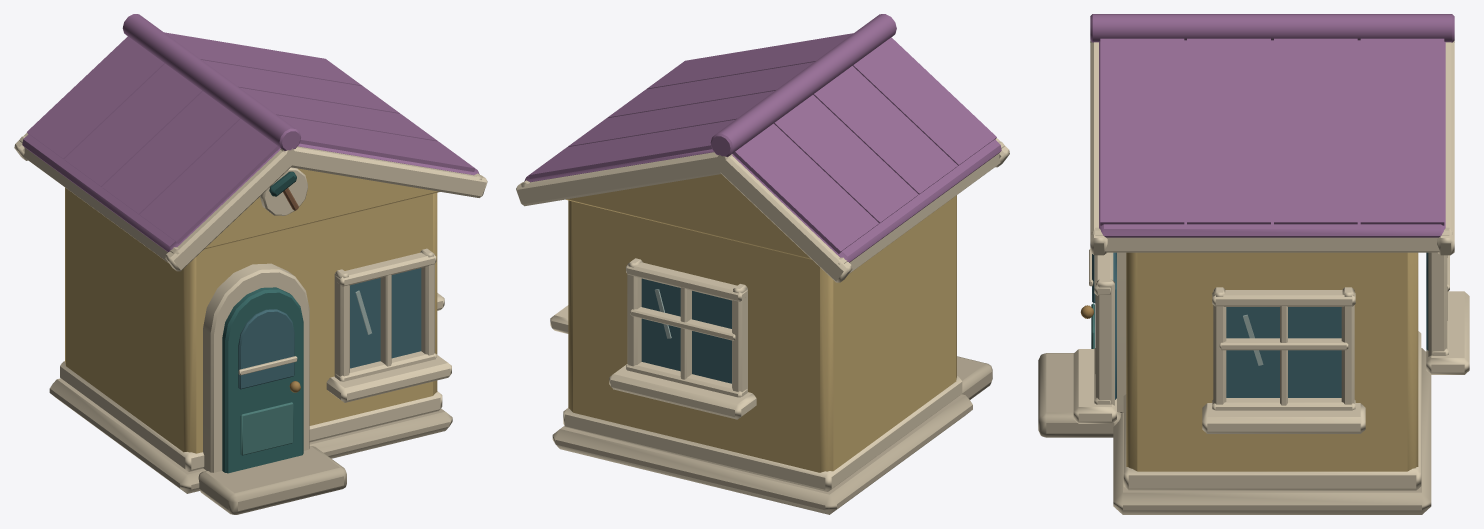
The model's file is workshop_level_1.glb.
3 renders of one model, left to right at view 1: azimuth 30°, elevation 25°; view 2: azimuth 150°, elevation 25°; view 3: azimuth 270°, elevation 25°, orthographic. The views are drawn at different scales.
Visible parts, largest first — view 1: workshop_level_1_runtime; view 2: workshop_level_1_runtime; view 3: workshop_level_1_runtime.
Part boxes in pixels (x1=…): workshop_level_1_runtime: x1=14, y1=14, x2=487, y2=514; workshop_level_1_runtime: x1=516, y1=14, x2=1009, y2=514; workshop_level_1_runtime: x1=1038, y1=14, x2=1469, y2=514.
Size of the model in its own units: 2.97 by 3.1 by 2.99.
